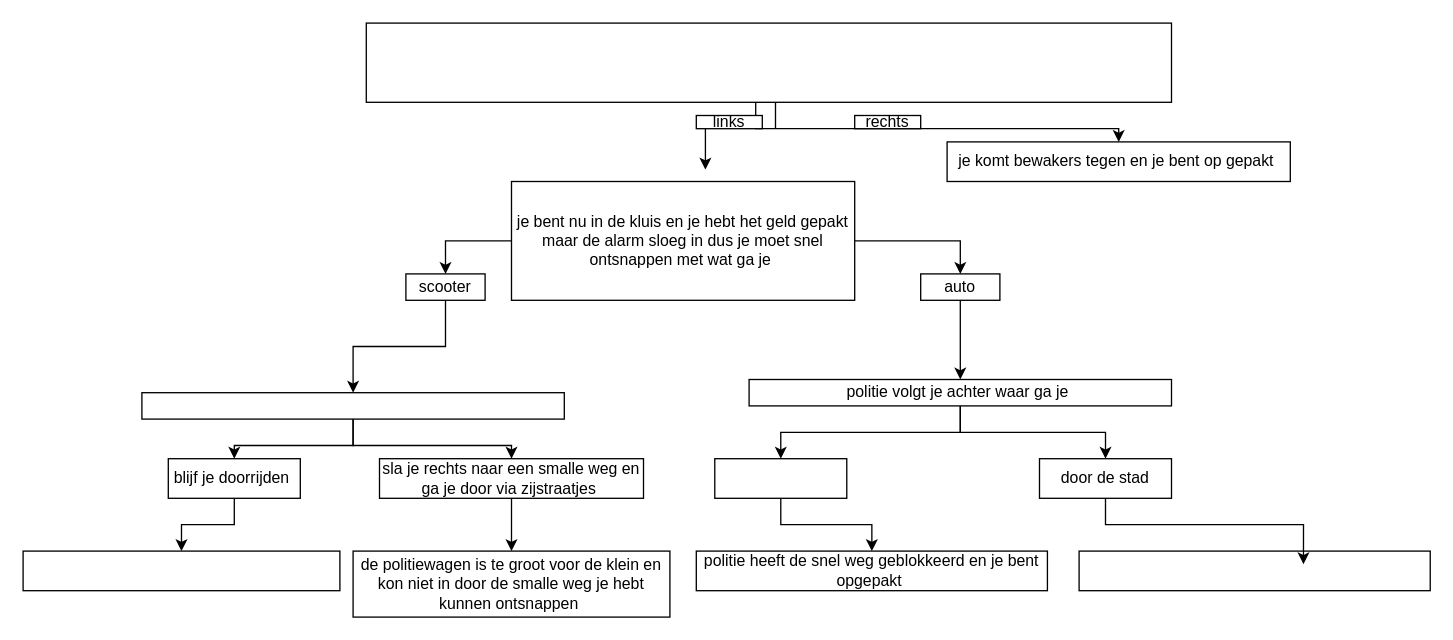
Image size: 1453x640. Some labels were removed from this diagram. The centre of each missing label's shape, as x and y in pixels:
de politiewagen is sneller dan jou ze hebben jou ingehaald en kunnen pakken: (181,570)
een politiewagen volgt je achter waar ga je: (352,405)
je bent binnen en je wilt naar de kluis waar ga je heen: (768,62)
je hebt geluk het is erg druk in de stad en je hebt kunnen ontsnappen: (1254,570)
via snel weg: (780,477)
